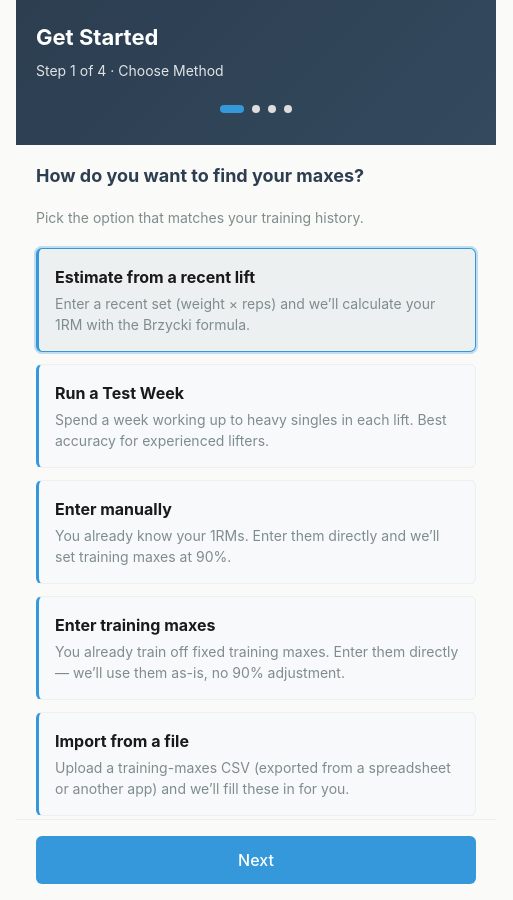
Test: OnboardingFlow — navigation › Back button is present at step 1 (Program) and navigates back to step 0 (Method)
The image size is (513, 900).
Step 0 → Step 1
Step 1. Click the button "Next" → (256, 860), box [36,836,476,884]
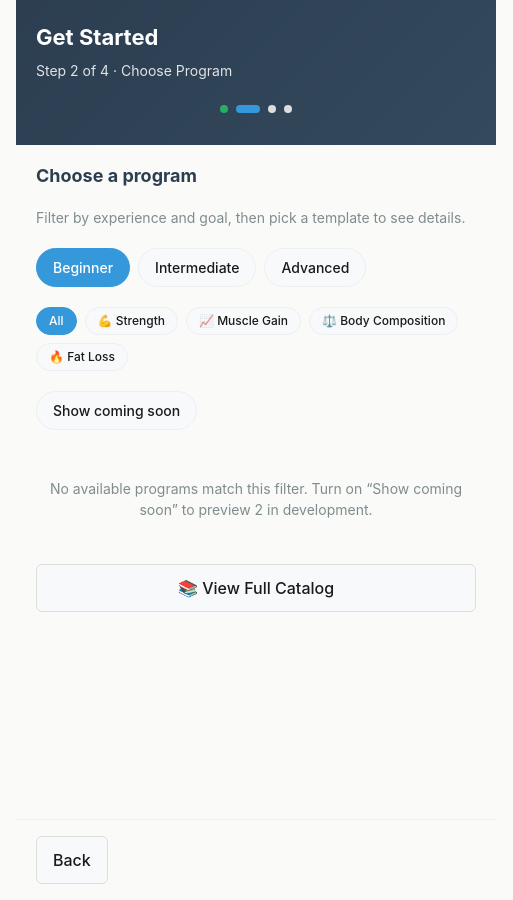
Check: the button "Back" is shown
Press Back → should return to step 0 (Method step shows Next again)
Step 2. Click the button "Back" → (72, 860), box [36,836,108,884]
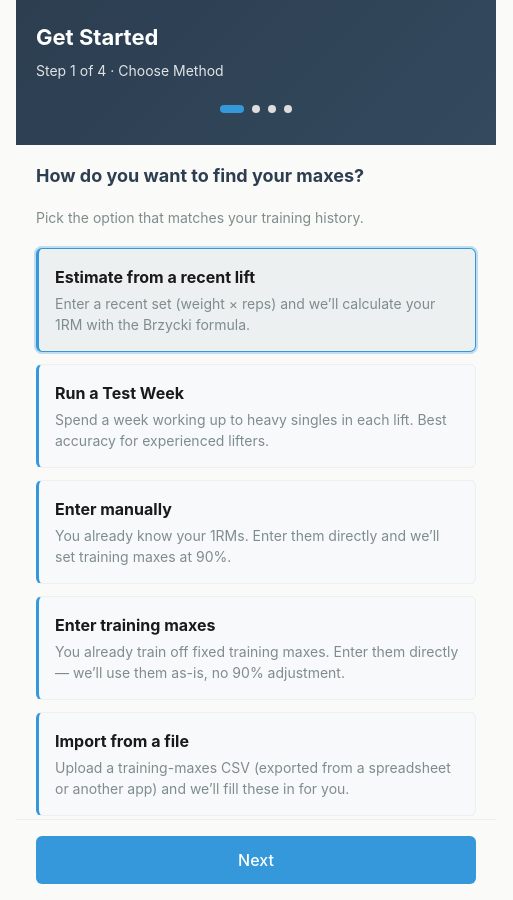
Check: the button "Next" is shown, box [36,836,476,884]
Check: the button "Back" is gone
